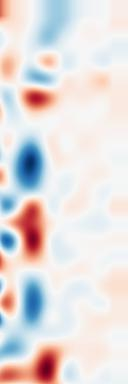filament: (11, 195, 55, 273), (18, 49, 62, 121), (25, 337, 67, 383)
